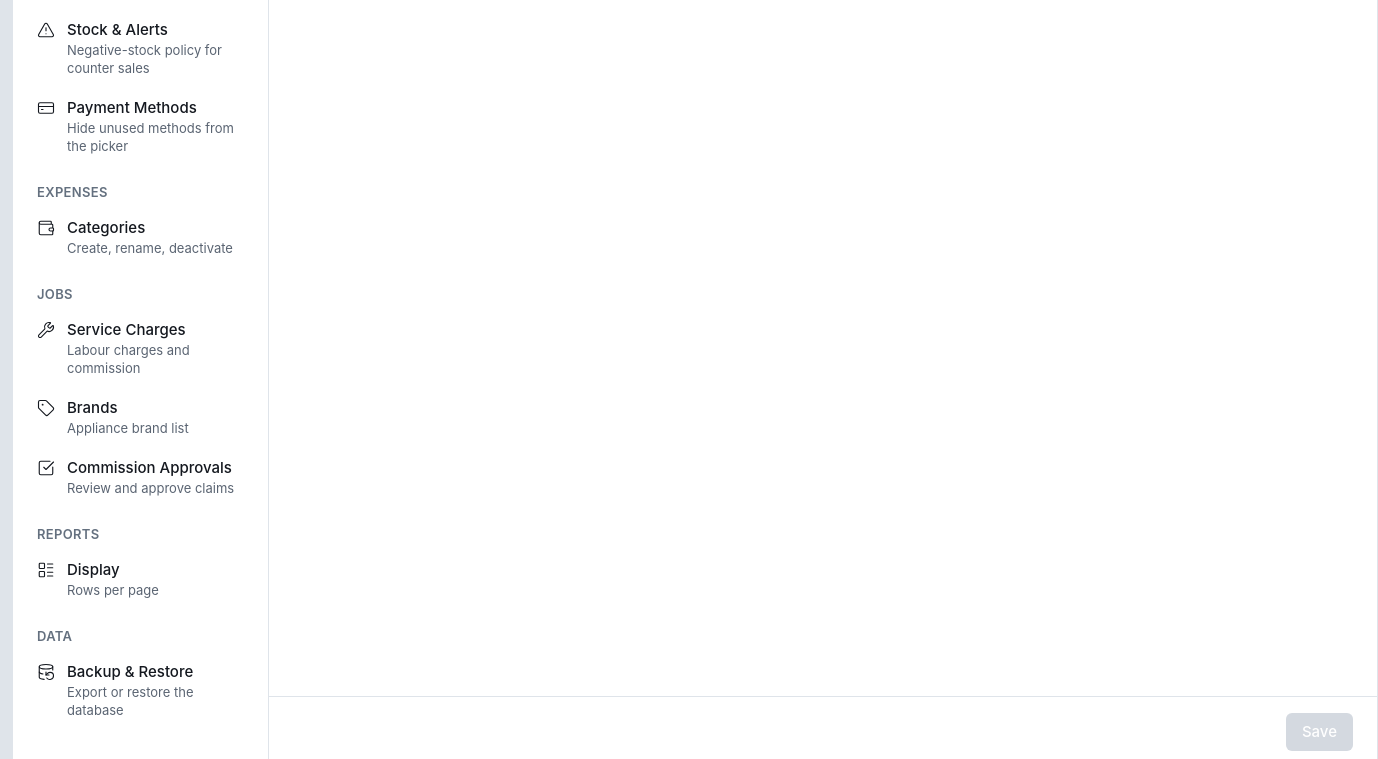
Test: SettingsPage — P16-1b routing (OD-16-11) › clicking "Backup & Restore" in the sub-nav routes to its section and shows its title
(page scrolled)
Click the link "Backup & Restore Export or restore the database" at (115, 690), box x1=37 y1=662 x2=194 y2=718
(page scrolled)
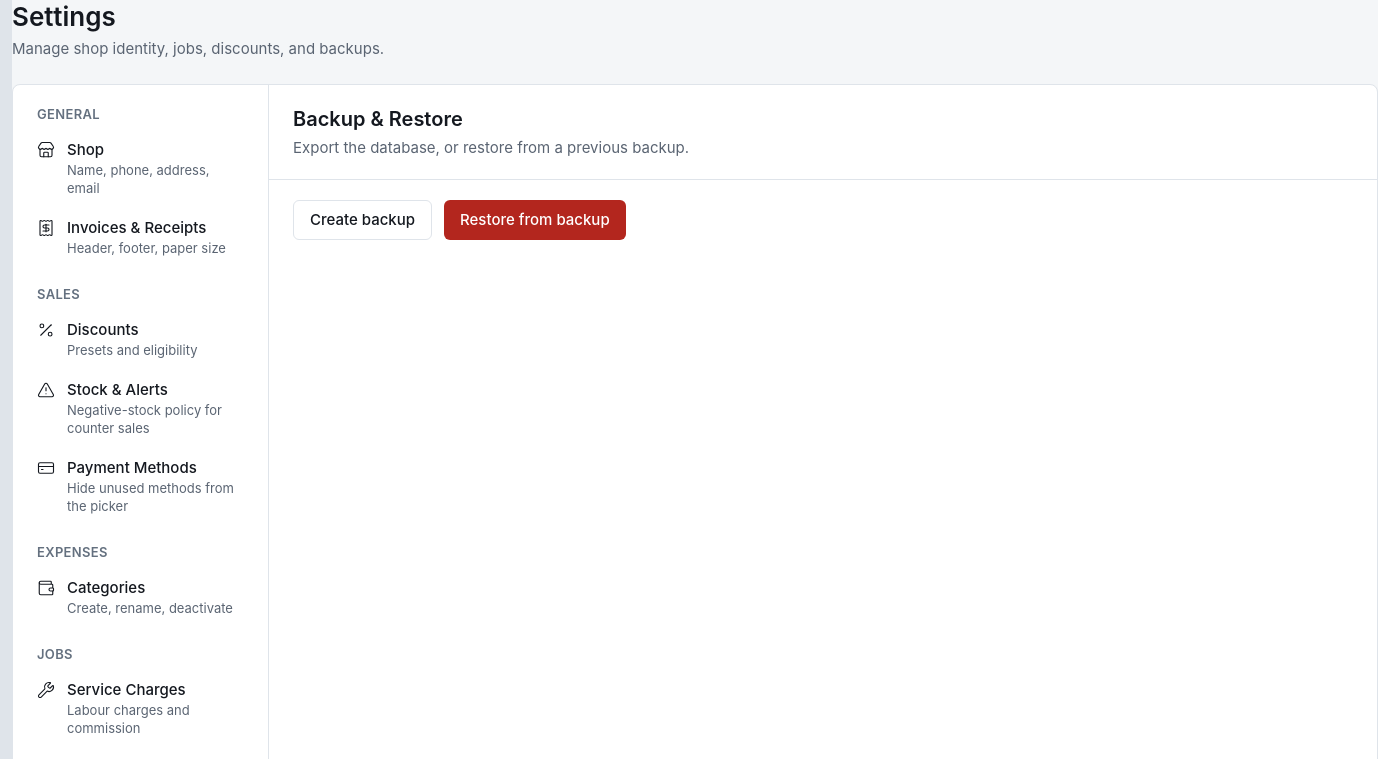
Now the heading "Backup & Restore" is shown, box x1=293 y1=107 x2=463 y2=131
